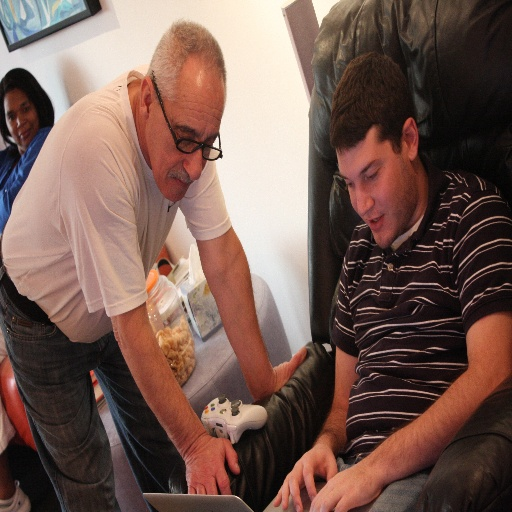hand: (272, 444, 337, 511), (180, 425, 237, 497), (310, 462, 382, 511), (270, 345, 307, 399)
